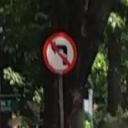NoVirarEsquerda: (40, 30, 80, 76)
